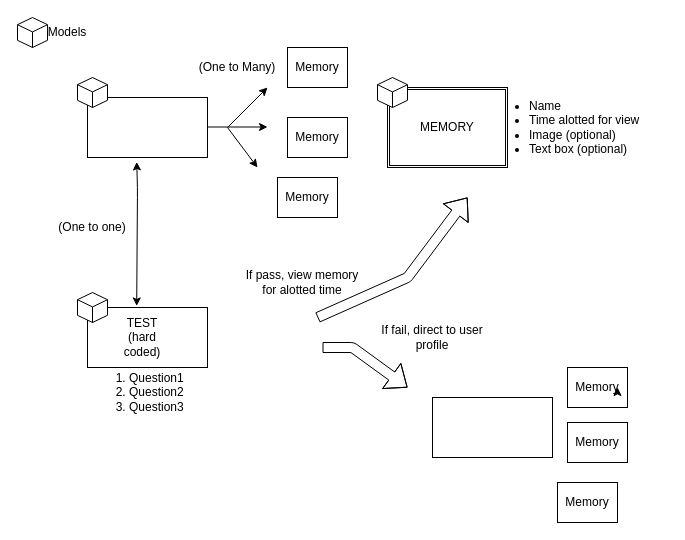
This 685x540 diagram has some shape labels left out. Here are the shapes that lost their labels. From the top down, the box of each, then its label:
(86, 96, 208, 158): USER (Name, password, memories)
(432, 396, 552, 458): USER Profile
